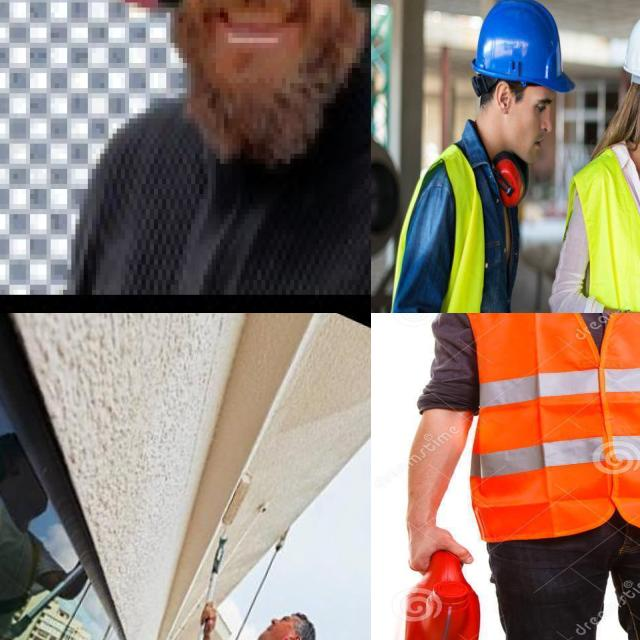face_nomask: (500, 88, 557, 177), (622, 89, 640, 164)
hand_noglove: (406, 518, 477, 570)
head_helmet: (470, 0, 576, 100), (621, 4, 640, 88)
person: (398, 313, 640, 640), (371, 0, 566, 313), (577, 3, 640, 313)
vest: (461, 313, 640, 537), (407, 153, 523, 313), (584, 156, 640, 313)
